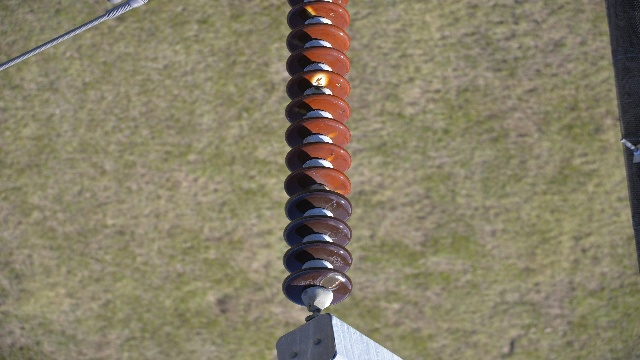insulator_unspecified: (282, 0, 351, 307)
pollution_flashover_local: (319, 272, 345, 295), (309, 72, 329, 90), (300, 3, 318, 21), (325, 229, 348, 243), (323, 202, 337, 213), (328, 130, 340, 139)
